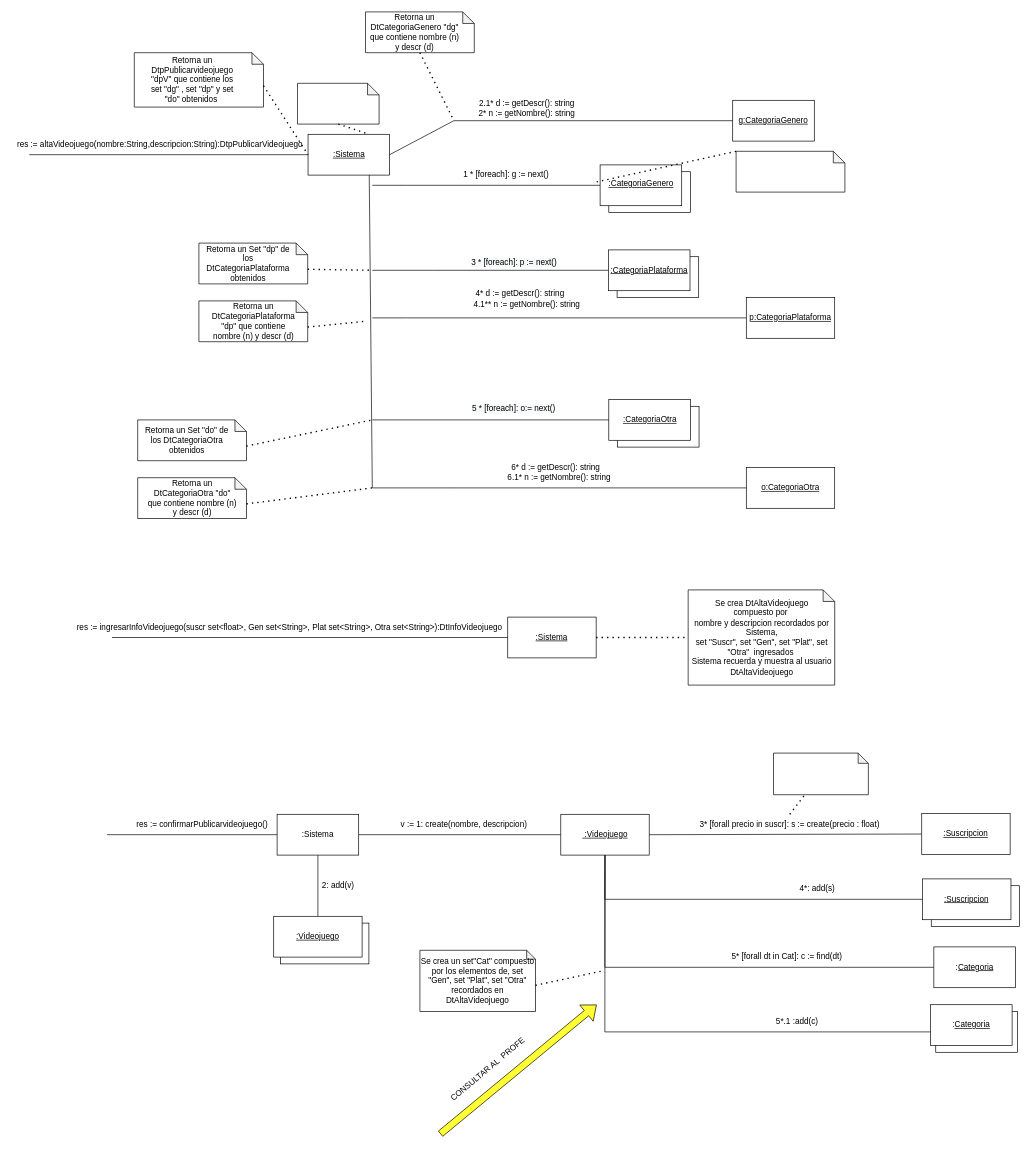
Image size: 1032x1149. Some labels were removed from this diagram. The shapes that lost their labels are listed below. From the top down, each one's centre as x and y in pixels, then its label:
point 338,103: Sistema recuerda nombre y descripcion
point 790,171: Retorna un Set "dg" de los DtCategoriaGenero obtenidos
point 820,773: Suscr es recordado por el sistema dentro de DtAltaVideojuego
